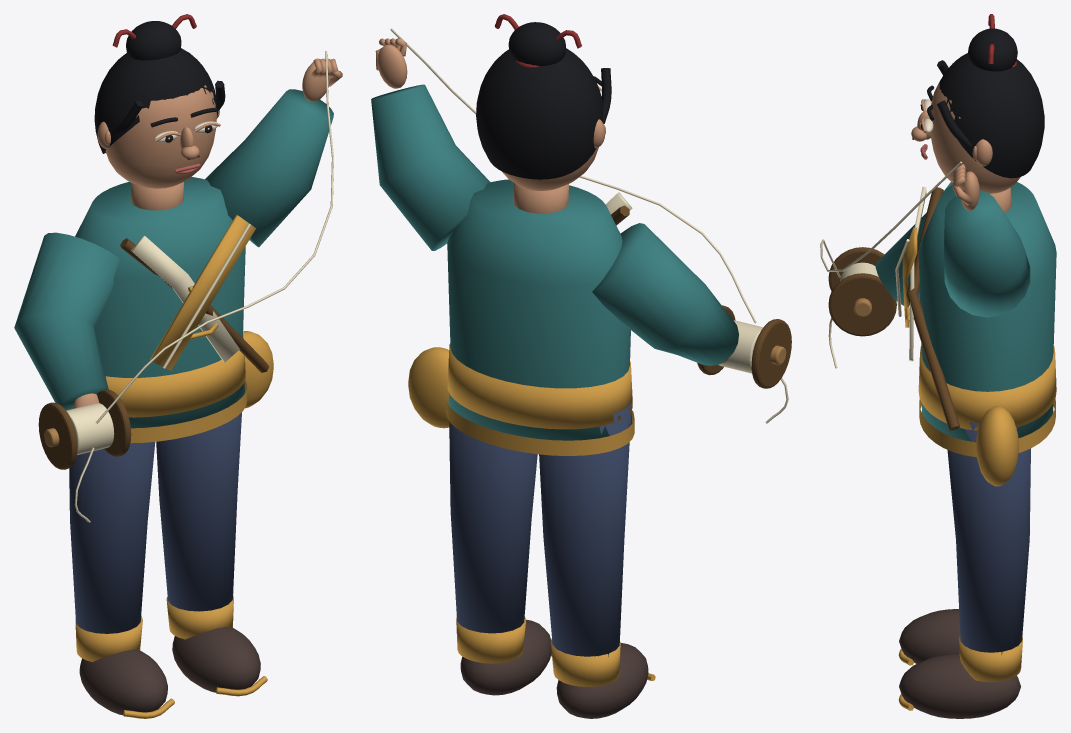
Rendered from child.glb.
The picture shows the model from 3 angles, left to right: view 1: azimuth 30°, elevation 25°; view 2: azimuth 150°, elevation 25°; view 3: azimuth 270°, elevation 25°; orthographic projection. The views are drawn at different scales.
Visible parts, largest first — view 1: child; view 2: child; view 3: child.
Part boxes in pixels (x1,y1,x2,y2): child: (14,14,342,718); child: (371,14,791,718); child: (820,14,1056,718).
Size of the model in its own units: 0.6025 by 1.11 by 0.3594.
Materials: 1 (1 with a texture image).
